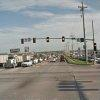Traffic light: (11, 30, 81, 52)
